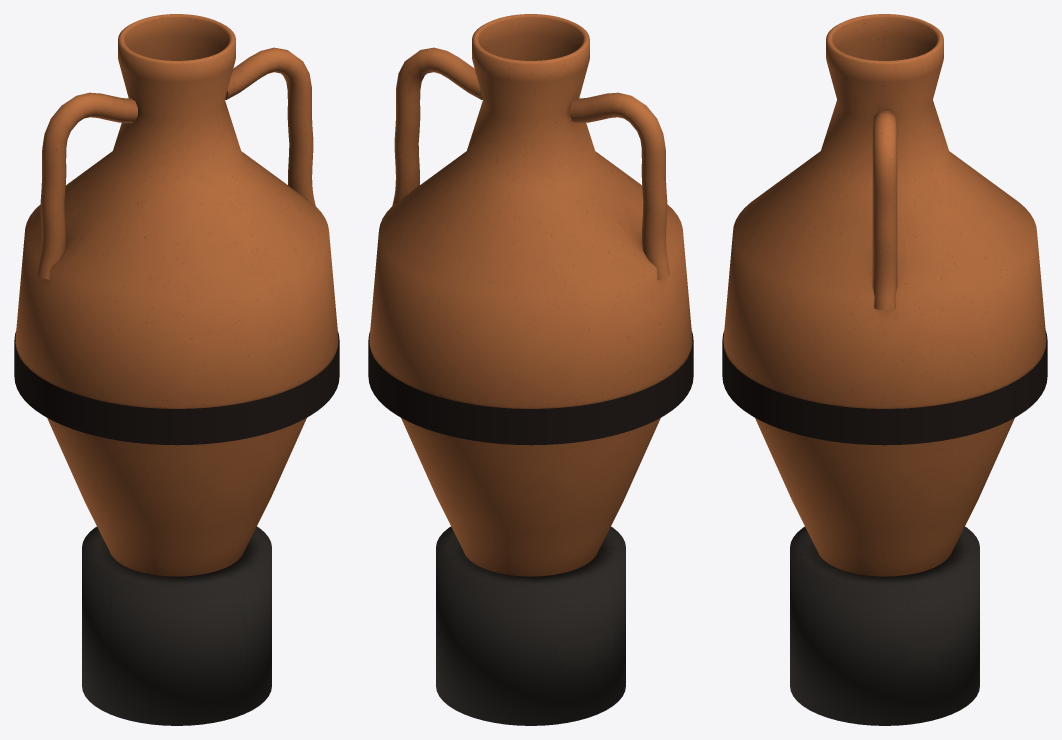
The model's file is black-figure.glb.
3 views of the same model, side by side, from view 1: azimuth 30°, elevation 25°; view 2: azimuth 150°, elevation 25°; view 3: azimuth 270°, elevation 25° (orthographic).
Parts seen in each view (by area): view 1: terracotta_primary, iron, black_figure; view 2: terracotta_primary, iron, black_figure; view 3: terracotta_primary, iron, black_figure.
Part boxes in pixels (left/top/right/bottom): terracotta_primary: left=15, top=14, right=338, bottom=576; iron: left=82, top=526, right=271, bottom=725; black_figure: left=14, top=331, right=339, bottom=445; terracotta_primary: left=369, top=14, right=692, bottom=576; iron: left=436, top=526, right=625, bottom=725; black_figure: left=368, top=331, right=693, bottom=445; terracotta_primary: left=723, top=14, right=1046, bottom=576; iron: left=790, top=526, right=979, bottom=725; black_figure: left=722, top=331, right=1047, bottom=445.
Bounding box in the file's own units: 0.342 × 0.7524 × 0.342.
Materials: 3 (2 with a texture image).
